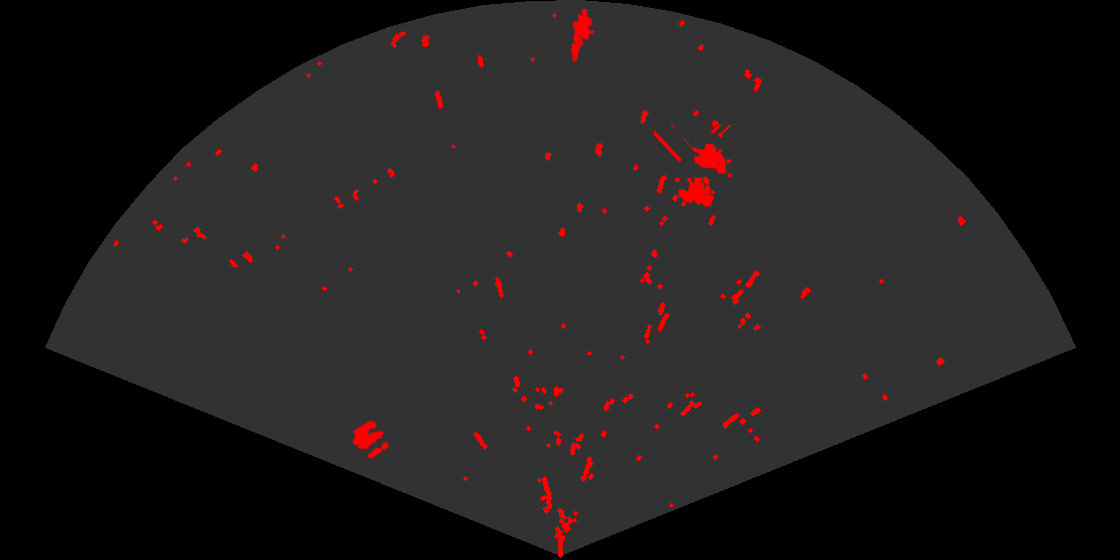ball: (351, 419, 391, 460)
cage: (654, 125, 734, 208)
frogman: (569, 9, 596, 62)
